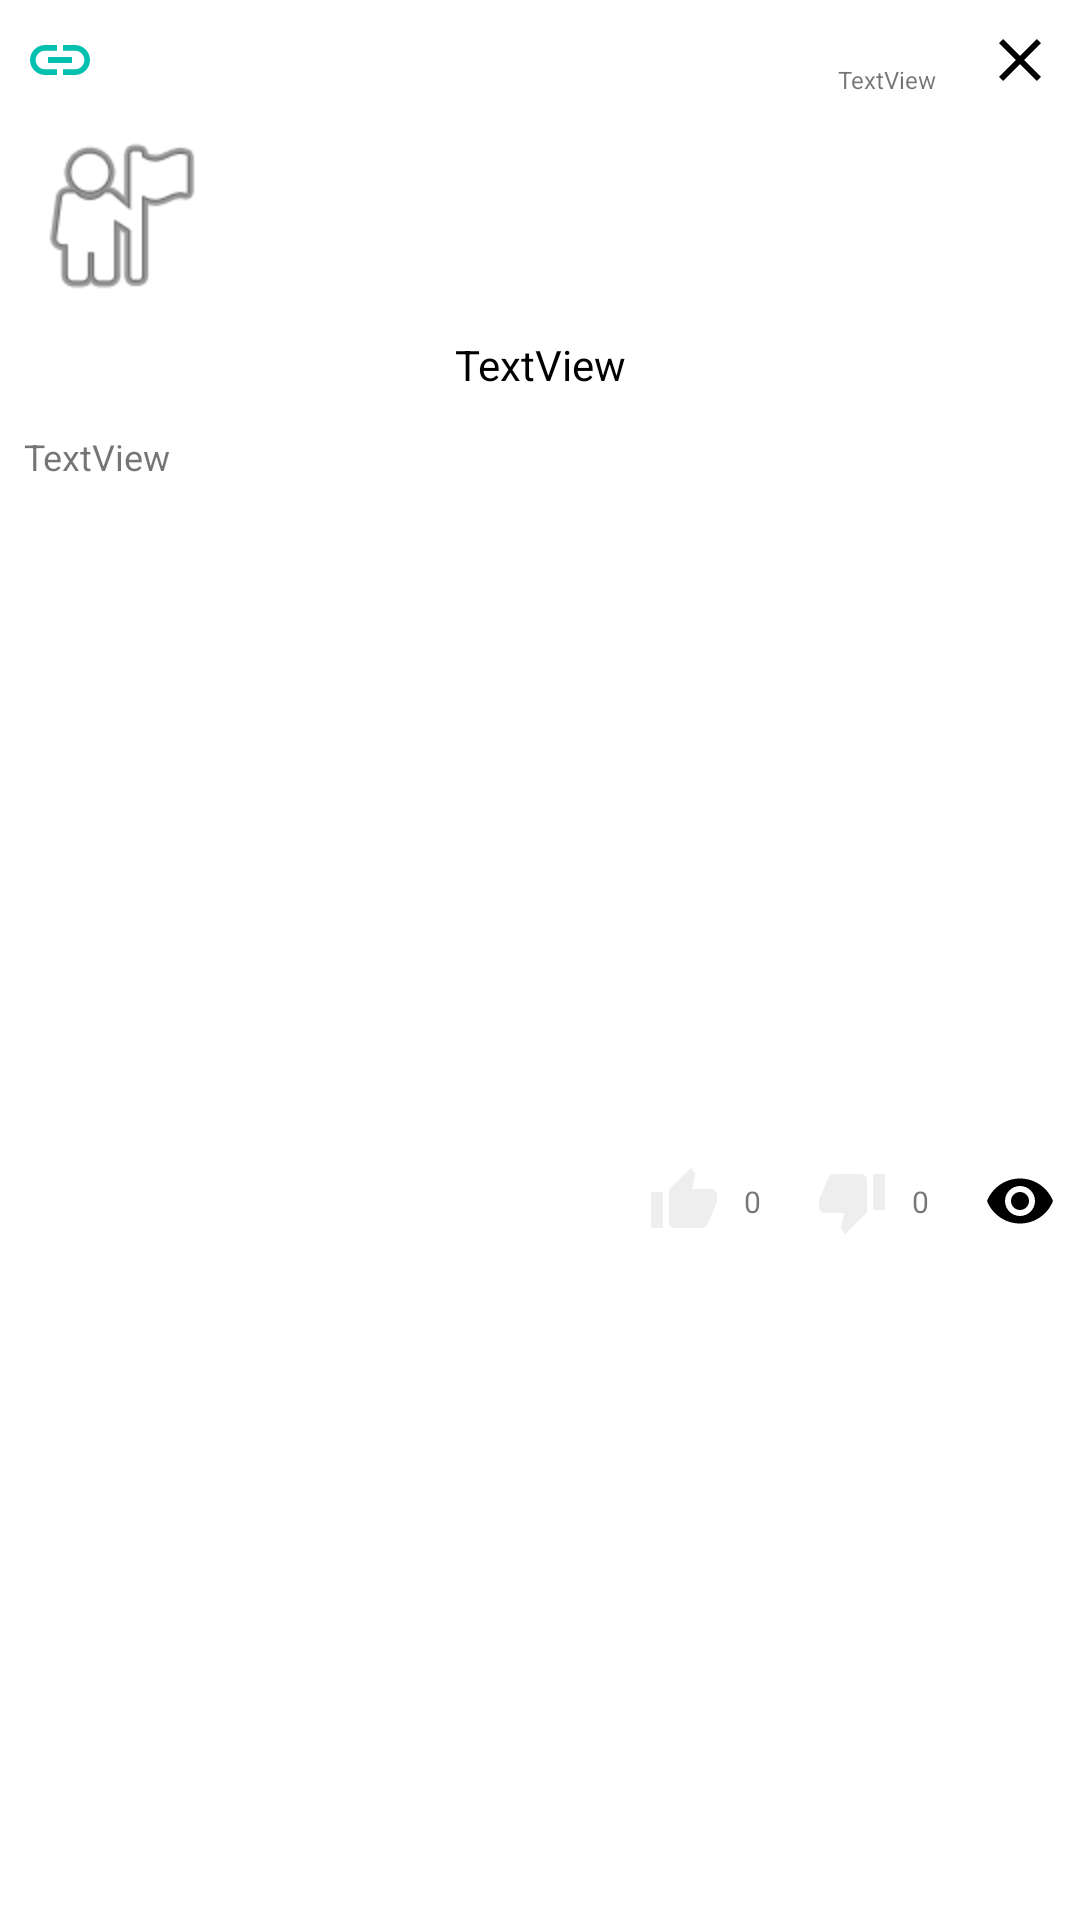

Named icons in this screenshot (1080 x 1920) and their centers, (x,y):
close: (1020,60)
eye: (1020,1201)
link: (60,60)
myplaces: (122,216)
